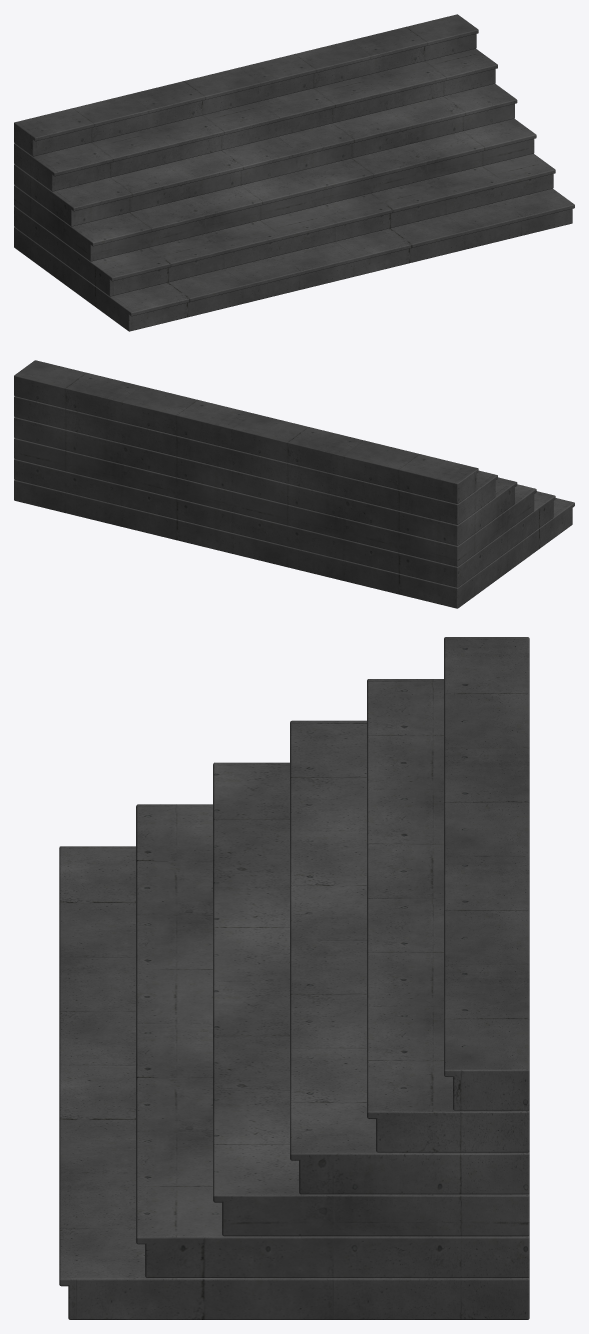
Rendered from Stairs_Short.gltf.
3 renders of one model, top to bottom at view 1: azimuth 30°, elevation 25°; view 2: azimuth 150°, elevation 25°; view 3: azimuth 270°, elevation 25°, orthographic. The views are drawn at different scales.
Parts seen in each view (by area): view 1: Stairs_Short_Body; view 2: Stairs_Short_Body; view 3: Stairs_Short_Body.
Part boxes in pixels (x1,y1,x2,y2): Stairs_Short_Body: [14, 14, 574, 331]; Stairs_Short_Body: [14, 360, 574, 608]; Stairs_Short_Body: [59, 637, 529, 1319].
Size of what is drawn, in the model's own units: 4 by 1.08 by 1.84.
Materials: 1 (1 with a texture image).
